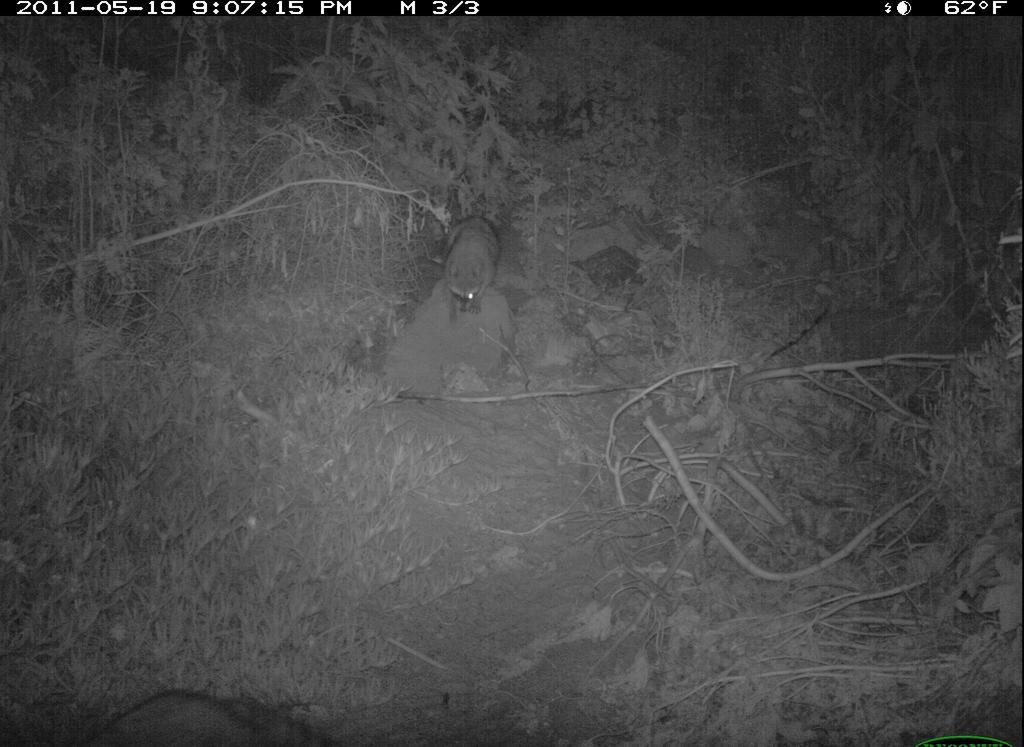raccoon: (438, 204, 521, 329)
